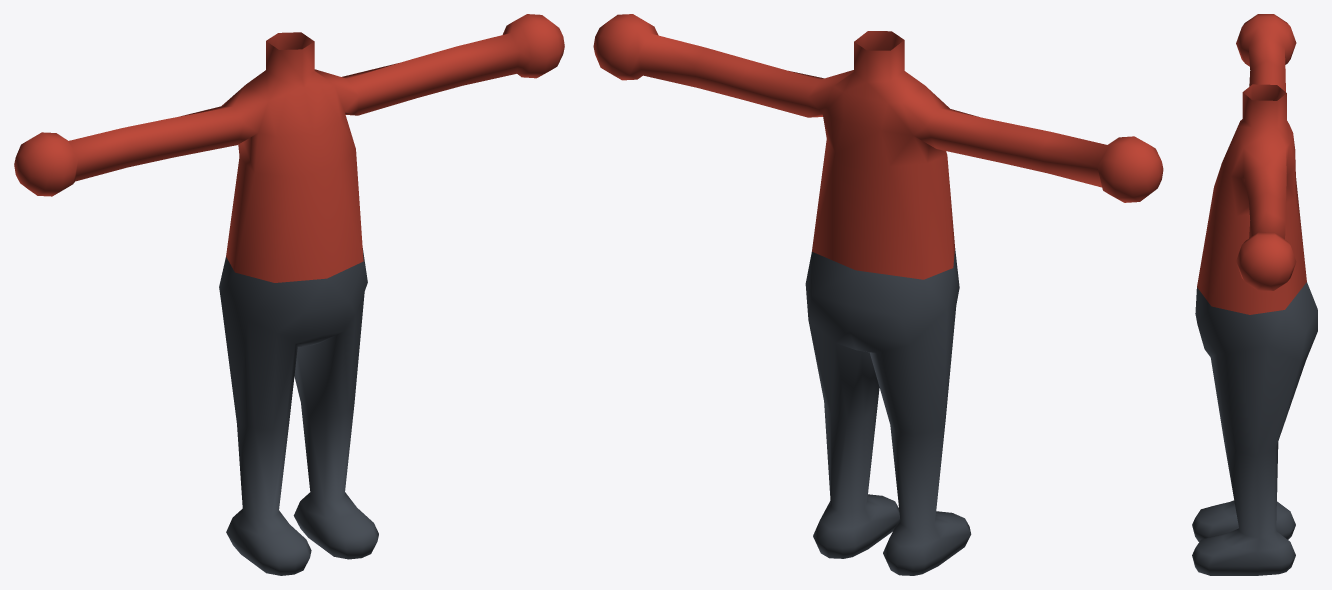
The model's file is Male.obj.
The picture shows the model from 3 angles, left to right: view 1: azimuth 30°, elevation 25°; view 2: azimuth 150°, elevation 25°; view 3: azimuth 270°, elevation 25°; orthographic projection. The views are drawn at different scales.
Parts seen in each view (by area): view 1: シャツ_Mesh_0002.rip_mesh0000.003, ズボン_Mesh_0002.rip_mesh0000.005; view 2: シャツ_Mesh_0002.rip_mesh0000.003, ズボン_Mesh_0002.rip_mesh0000.005; view 3: ズボン_Mesh_0002.rip_mesh0000.005, シャツ_Mesh_0002.rip_mesh0000.003.
Part boxes in pixels (<box>): シャツ_Mesh_0002.rip_mesh0000.003: <box>14,14,564,282</box>; ズボン_Mesh_0002.rip_mesh0000.005: <box>219,248,378,575</box>; シャツ_Mesh_0002.rip_mesh0000.003: <box>593,14,1163,279</box>; ズボン_Mesh_0002.rip_mesh0000.005: <box>805,248,971,575</box>; ズボン_Mesh_0002.rip_mesh0000.005: <box>1192,282,1317,575</box>; シャツ_Mesh_0002.rip_mesh0000.003: <box>1197,14,1306,314</box>.
Bounding box in the file's own units: 1.42 × 1.25 × 0.3101.
2 materials, 2 textured.
